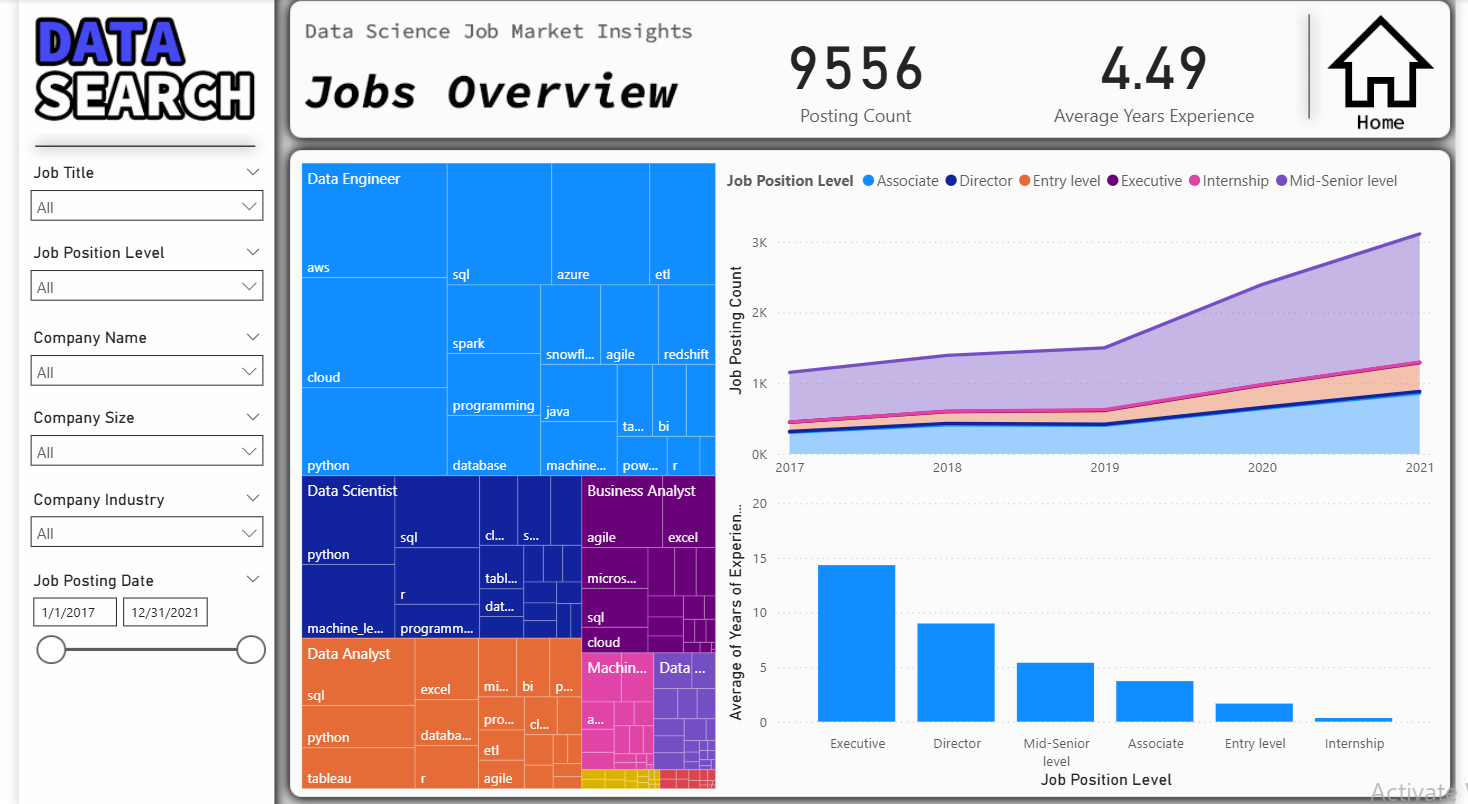

The page's visual inventory and layout, read from the dashboard file:
{"tool":"powerbi","page":{"name":"Jobs","canvas":[1280,720],"ordinal":1},"visuals":[{"type":"columnChart","fields":{"Y":["Avg(Job Postings.Years of Experience)"],"Category":["Job Postings.Job Position Level"]},"box":[625.4,434.8,640,273.3],"z":0},{"type":"stackedAreaChart","fields":{"Category":["Job Postings.Job Posting Date.Variation.Date Hierarchy.Year","Job Postings.Job Posting Date.Variation.Date Hierarchy.Quarter","Job Postings.Job Posting Date.Variation.Date Hierarchy.Month","Job Postings.Job Posting Date.Variation.Date Hierarchy.Day"],"Y":["CountNonNull(Job Postings.Job Posting ID)"],"Series":["Job Postings.Job Position Level"]},"box":[625.4,141,640,293.7],"z":1000},{"type":"treemap","fields":{"Group":["Job Postings.Job Title"],"Values":["CountNonNull(Job Skills.Job Skills)"],"Details":["Job Skills.Job Skills"]},"box":[247.1,141,378.4,567.1],"z":2000},{"type":"slicer","fields":{"Values":["Job Postings.Job Title"]},"box":[0,141,227.6,72],"z":3000},{"type":"slicer","fields":{"Values":["Job Postings.Job Position Level"]},"box":[0,213,227.6,72],"z":4000},{"type":"slicer","fields":{"Values":["Job Postings.Company Name"]},"box":[0,287.9,227.6,72],"z":5000},{"type":"slicer","fields":{"Values":["Job Postings.Company Size"]},"box":[0,359.9,227.6,72],"z":6000},{"type":"slicer","fields":{"Values":["Job Postings.Company Industry"]},"box":[0,431.9,227.6,72],"z":7000},{"type":"slicer","fields":{"Values":["Job Postings.Job Posting Date"]},"box":[0,503.8,227.6,215.9],"z":8000},{"type":"card","fields":{"Values":["_Measures.Posting Count"]},"box":[607.9,8.8,275.3,111.9],"z":9000},{"type":"card","fields":{"Values":["Avg(Job Postings.Years of Experience)"]},"box":[883.2,8.8,256.8,111.9],"z":10000},{"type":"image","box":[1159.4,0,106,111.9],"z":11000}]}

Visuals, with their boxes on the page's 1280x720 design canvas (x1, y1, x2, y2). These are canvas units, not pixel positions in the 1468x804 screenshot, which may show the page scaled, cropped or inside an application window:
columnChart - Avg(Job Postings.Years of Experience) x Job Postings.Job Position Level: (x1=625, y1=435, x2=1265, y2=708)
stackedAreaChart - Job Postings.Job Posting Date.Variation.Date Hierarchy.Year x Job Postings.Job Posting Date.Variation.Date Hierarchy.Quarter: (x1=625, y1=141, x2=1265, y2=435)
treemap - Job Postings.Job Title x CountNonNull(Job Skills.Job Skills): (x1=247, y1=141, x2=626, y2=708)
slicer - Job Postings.Job Title: (x1=0, y1=141, x2=228, y2=213)
slicer - Job Postings.Job Position Level: (x1=0, y1=213, x2=228, y2=285)
slicer - Job Postings.Company Name: (x1=0, y1=288, x2=228, y2=360)
slicer - Job Postings.Company Size: (x1=0, y1=360, x2=228, y2=432)
slicer - Job Postings.Company Industry: (x1=0, y1=432, x2=228, y2=504)
slicer - Job Postings.Job Posting Date: (x1=0, y1=504, x2=228, y2=720)
card - _Measures.Posting Count: (x1=608, y1=9, x2=883, y2=121)
card - Avg(Job Postings.Years of Experience): (x1=883, y1=9, x2=1140, y2=121)
image: (x1=1159, y1=0, x2=1265, y2=112)
